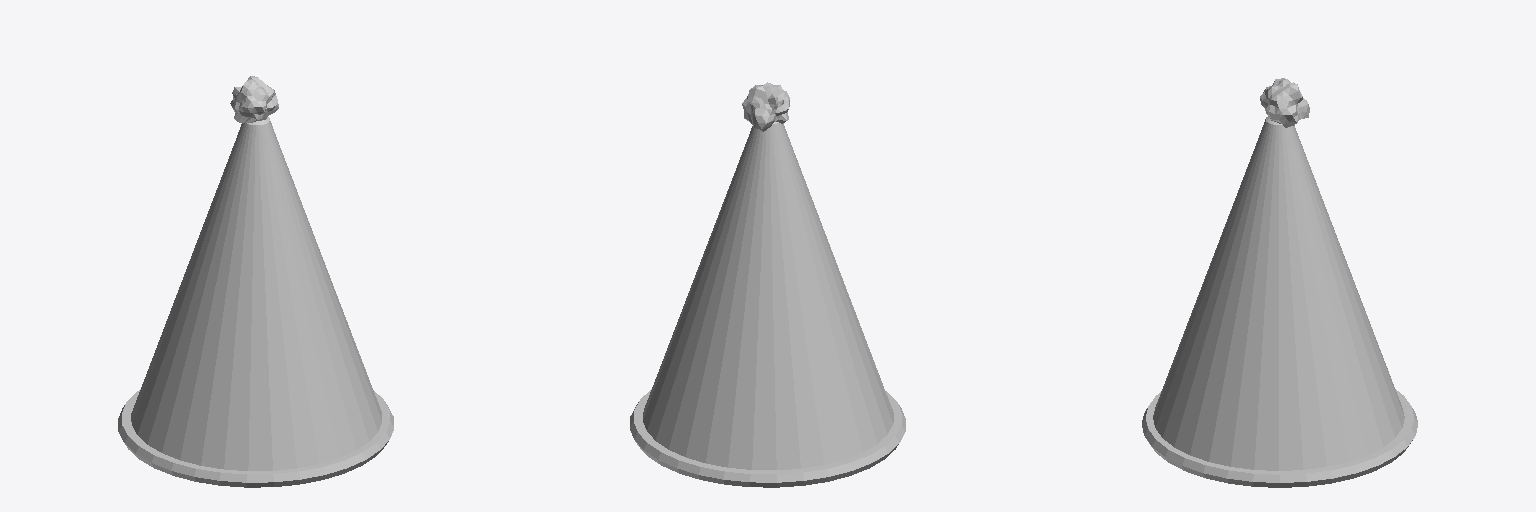
Rendered from party_hat2.obj.
3 views of the same model, side by side, from view 1: azimuth 30°, elevation 25°; view 2: azimuth 150°, elevation 25°; view 3: azimuth 270°, elevation 25° (orthographic).
Visible parts, largest first — view 1: Cylinder.002_Cylinder.005, Cylinder.002_Cylinder.001; view 2: Cylinder.002_Cylinder.005, Cylinder.002_Cylinder.001; view 3: Cylinder.002_Cylinder.005, Cylinder.002_Cylinder.001.
Boxes of the visible parts, x1,y1,x2,y2 form: Cylinder.002_Cylinder.005: [118, 117, 393, 487]; Cylinder.002_Cylinder.001: [230, 76, 278, 122]; Cylinder.002_Cylinder.005: [630, 122, 905, 487]; Cylinder.002_Cylinder.001: [742, 82, 789, 131]; Cylinder.002_Cylinder.005: [1142, 116, 1417, 487]; Cylinder.002_Cylinder.001: [1260, 78, 1309, 127].
Bounding box in the file's own units: 16.54 × 22.97 × 16.47.